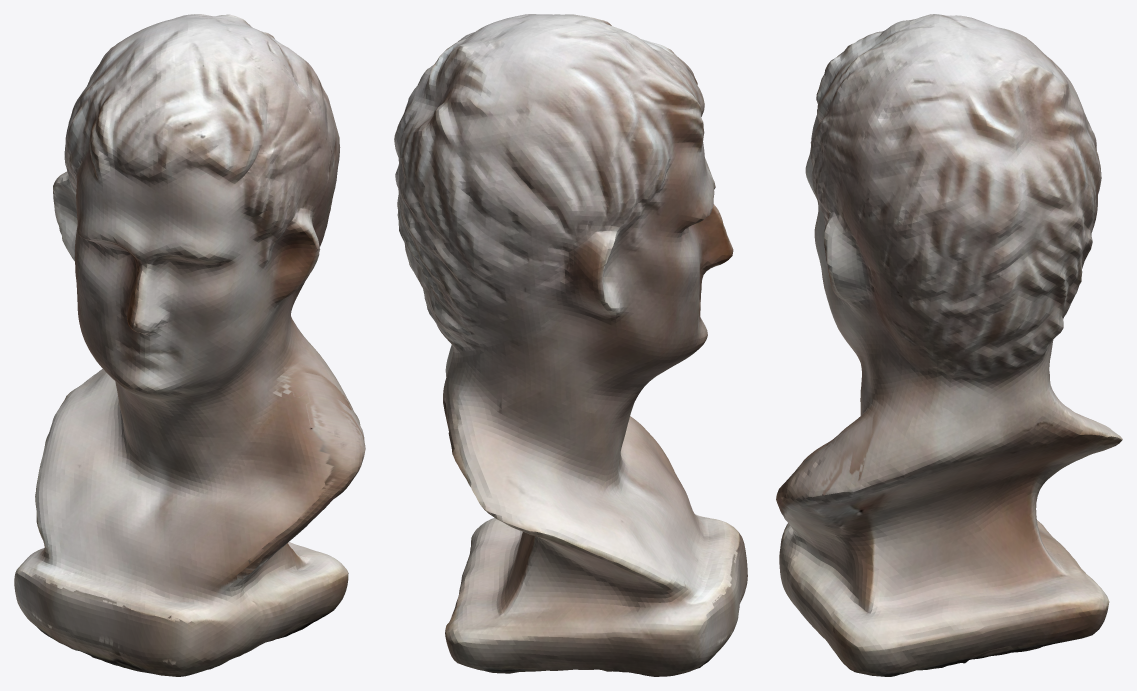
File: Roman Bust.glb
The picture shows the model from 3 angles, left to right: view 1: azimuth 30°, elevation 25°; view 2: azimuth 150°, elevation 25°; view 3: azimuth 270°, elevation 25°; orthographic projection. The views are drawn at different scales.
Size of the model in its own units: 0.3647 by 0.6915 by 0.357.
Materials: 1 (1 with a texture image).
